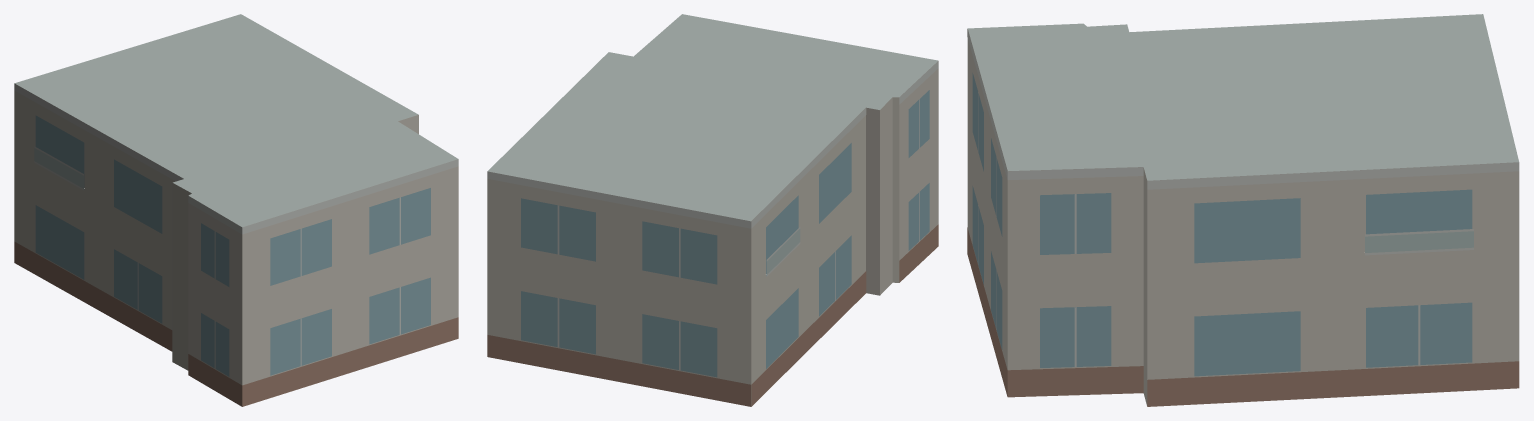
Rendered from survey-upis-33014513.glb.
The picture shows the model from 3 angles, left to right: view 1: azimuth 30°, elevation 25°; view 2: azimuth 150°, elevation 25°; view 3: azimuth 270°, elevation 25°; orthographic projection. The views are drawn at different scales.
Visible parts, largest first — view 1: survey-upis-33014513.tmp; view 2: survey-upis-33014513.tmp; view 3: survey-upis-33014513.tmp.
Part boxes in pixels (x1,y1,x2,y2): survey-upis-33014513.tmp: [14, 14, 458, 406]; survey-upis-33014513.tmp: [487, 14, 938, 406]; survey-upis-33014513.tmp: [967, 14, 1519, 406].
Bounding box in the file's own units: 9.66 × 6.1 × 13.5.
